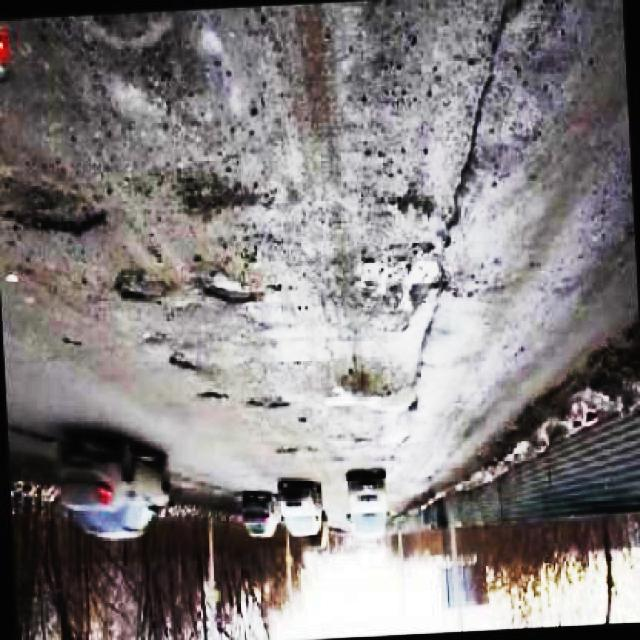pothole: (11, 192, 112, 237), (356, 254, 452, 294), (205, 266, 260, 308), (119, 266, 170, 305), (182, 174, 230, 212)
